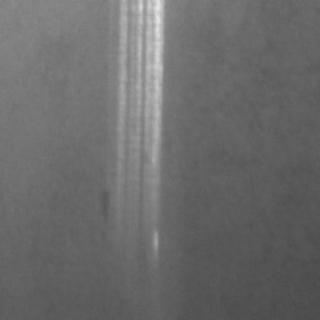scratches: (110, 0, 162, 248)
